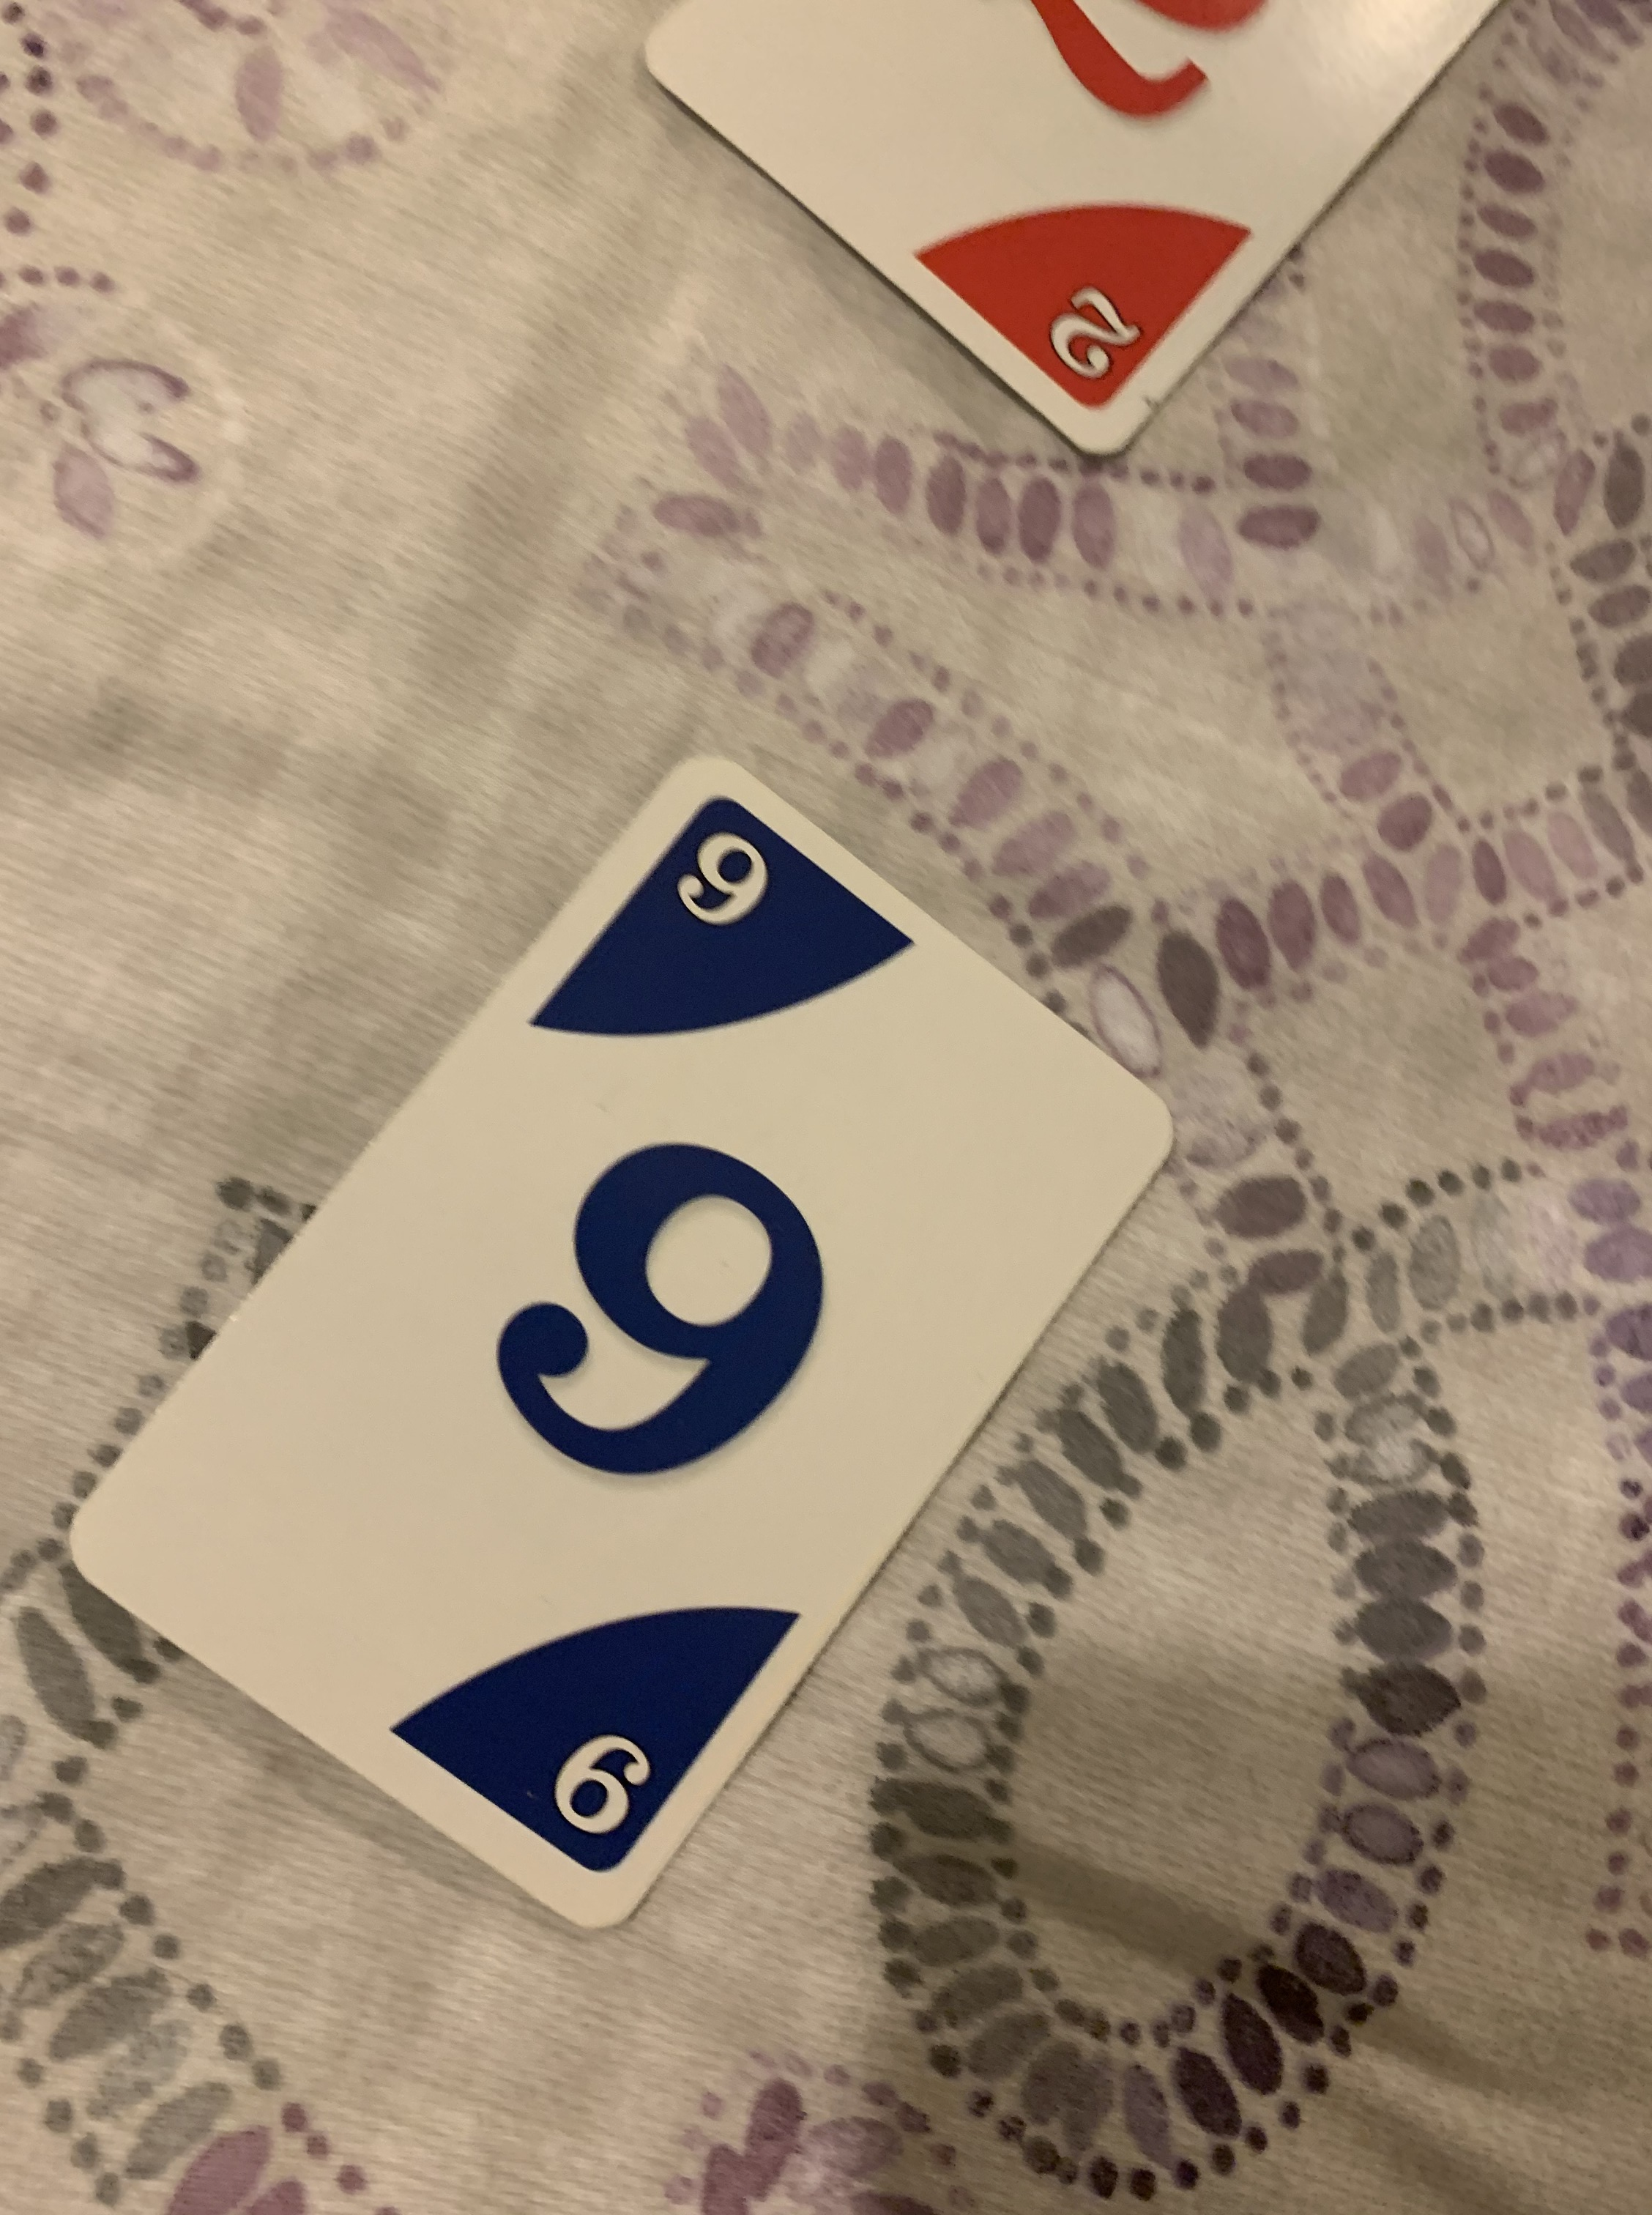nine: (71, 752, 1173, 1939)
